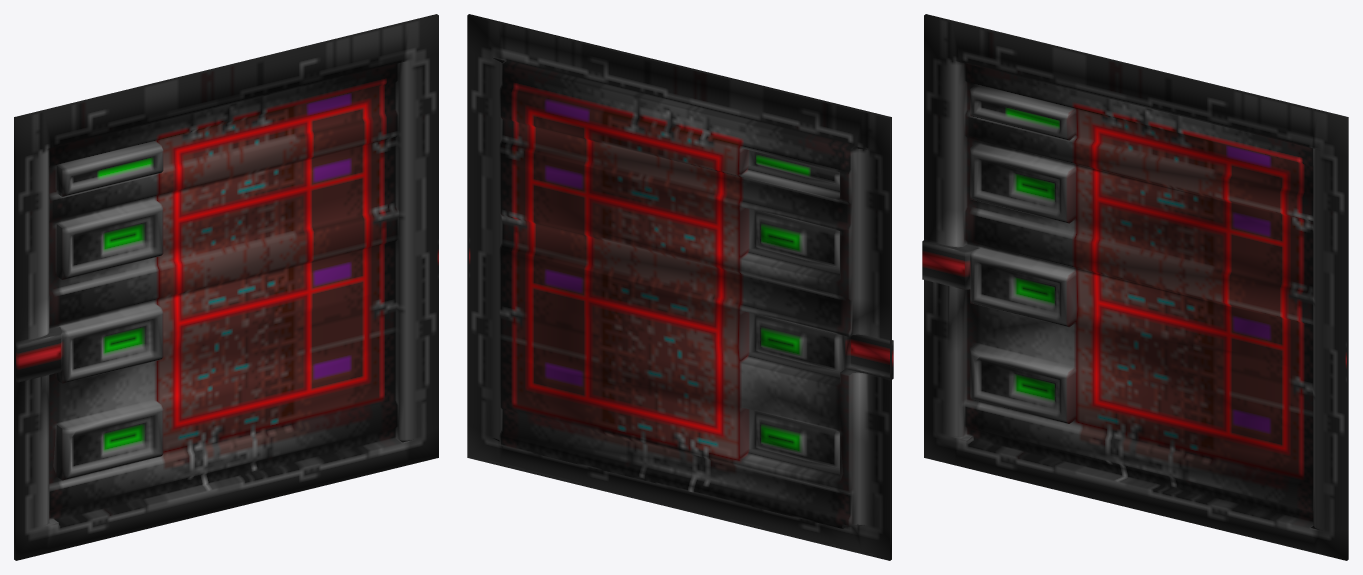
Rendered from reac2_6.fbx.
The picture shows the model from 3 angles, left to right: view 1: azimuth 30°, elevation 25°; view 2: azimuth 150°, elevation 25°; view 3: azimuth 330°, elevation 25°; orthographic projection.
Visible parts, largest first — view 1: reac2_6; view 2: reac2_6; view 3: reac2_6.
Part boxes in pixels (x1=…): reac2_6: x1=14, y1=14, x2=438, y2=560; reac2_6: x1=467, y1=14, x2=893, y2=560; reac2_6: x1=922, y1=14, x2=1348, y2=560.
Size of the model in its own units: 256 by 256 by 8.
